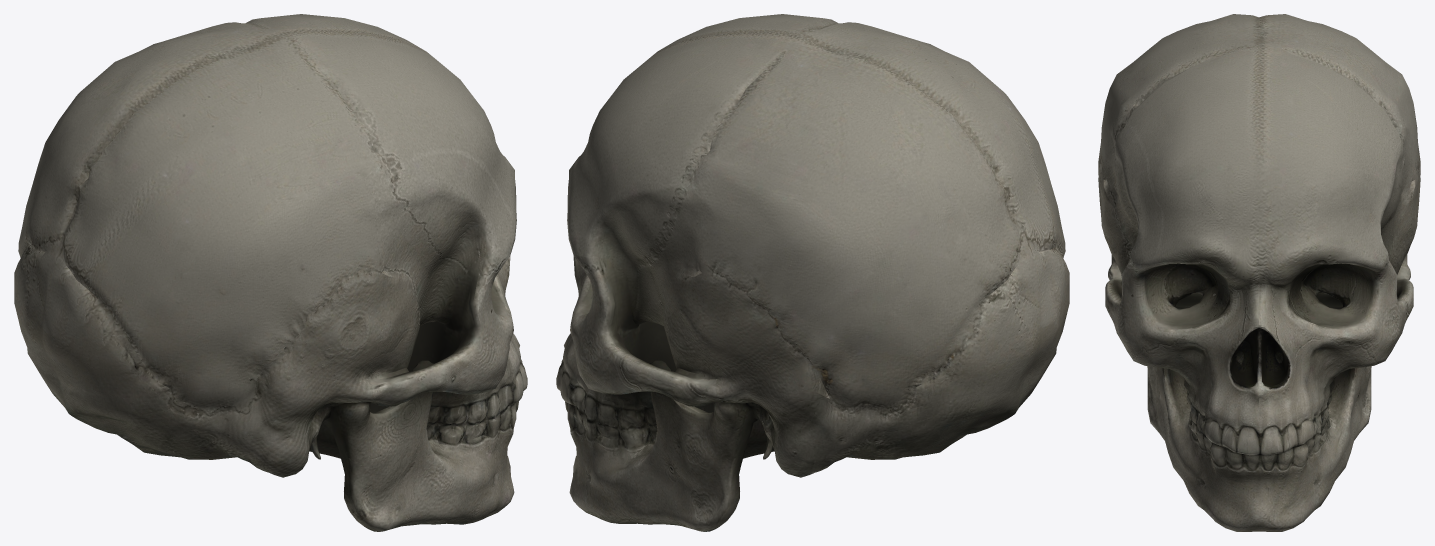
File: realistic_human_skull_low_poly_game_ready.glb
The picture shows the model from 3 angles, left to right: view 1: azimuth 30°, elevation 25°; view 2: azimuth 150°, elevation 25°; view 3: azimuth 270°, elevation 25°; orthographic projection. The views are drawn at different scales.
Visible parts, largest first — view 1: e0a51933-b3f5-4609-b374-7fb6e3abb0bf_1; view 2: e0a51933-b3f5-4609-b374-7fb6e3abb0bf_1; view 3: e0a51933-b3f5-4609-b374-7fb6e3abb0bf_1.
Boxes of the visible parts, <box> form: e0a51933-b3f5-4609-b374-7fb6e3abb0bf_1: <box>14,14,527,531</box>; e0a51933-b3f5-4609-b374-7fb6e3abb0bf_1: <box>556,14,1069,531</box>; e0a51933-b3f5-4609-b374-7fb6e3abb0bf_1: <box>1098,14,1420,531</box>.
Bounding box in the file's own units: 0.9773 × 0.9988 × 0.7134.
1 material, 1 textured.
